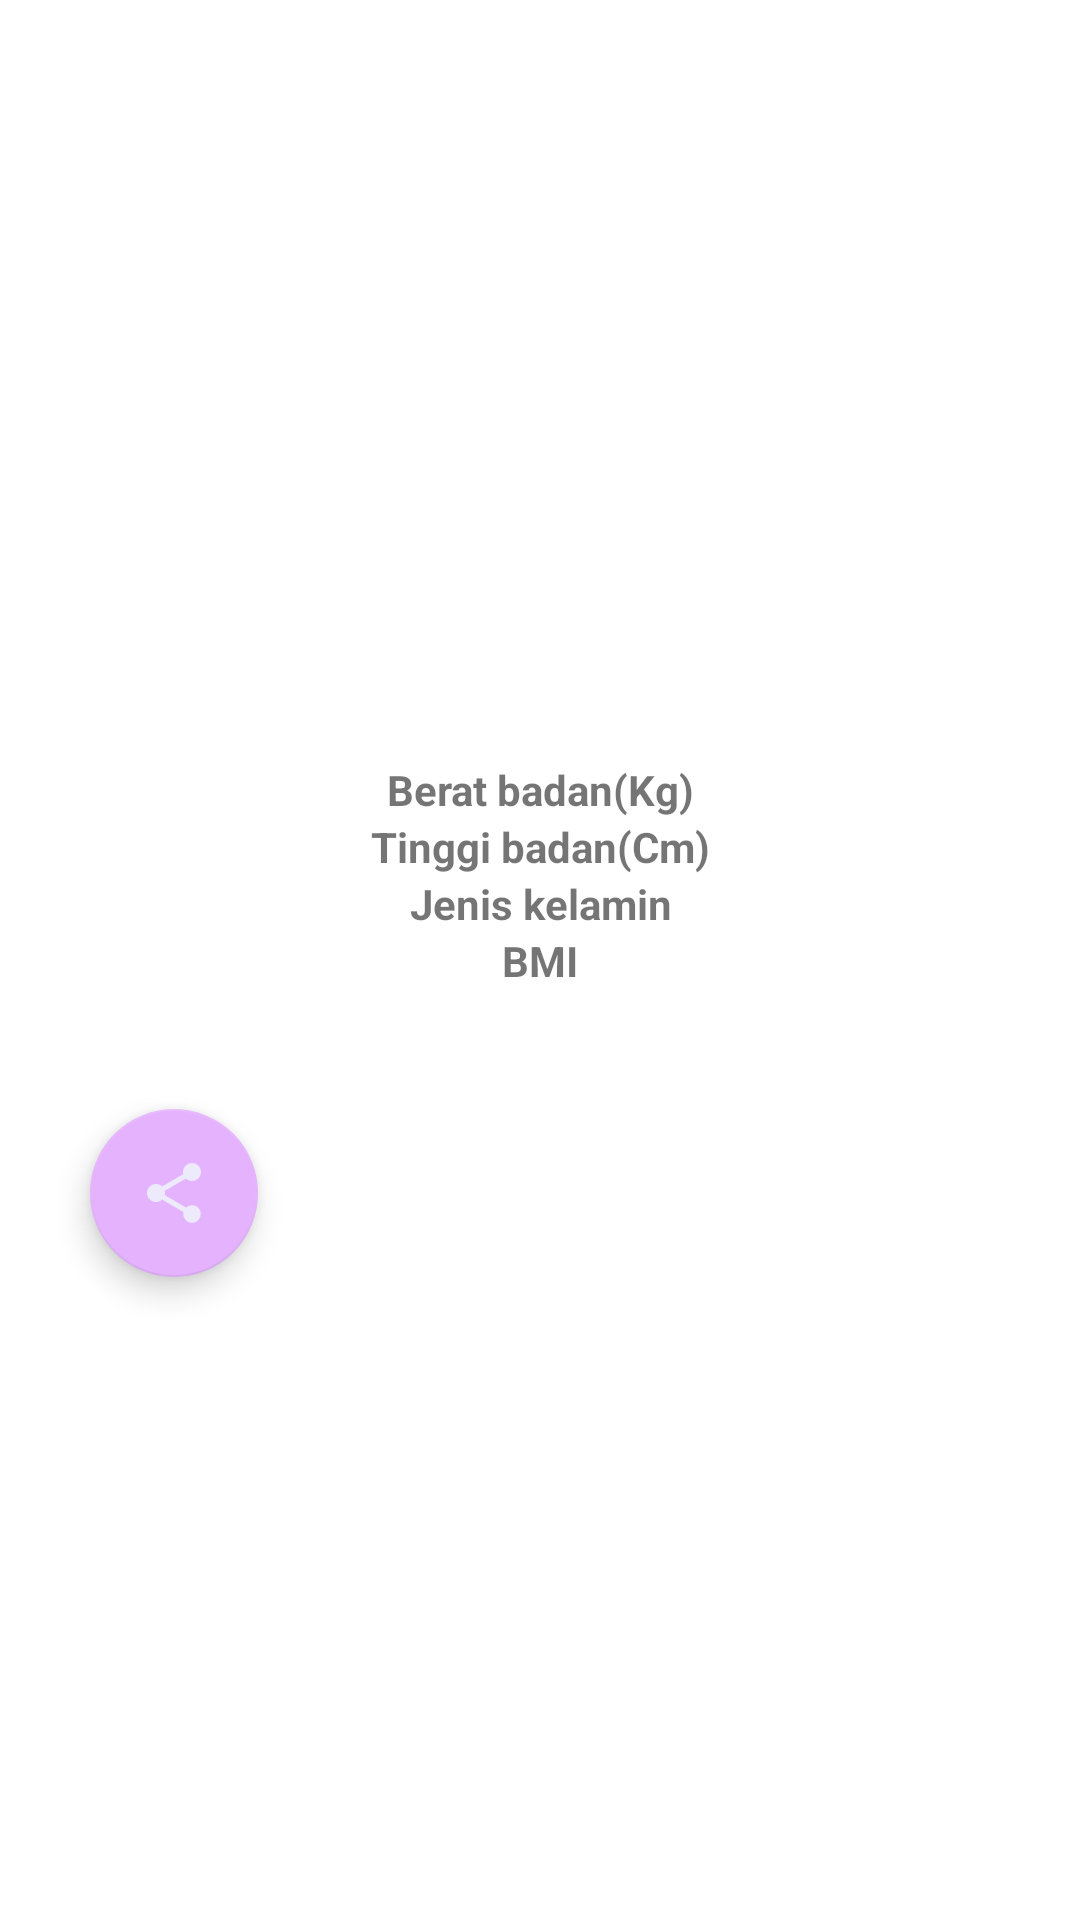

Icons on this 1080 × 1920 Android screen, each with the point to tap as (x,y):
share: (174,1193)
